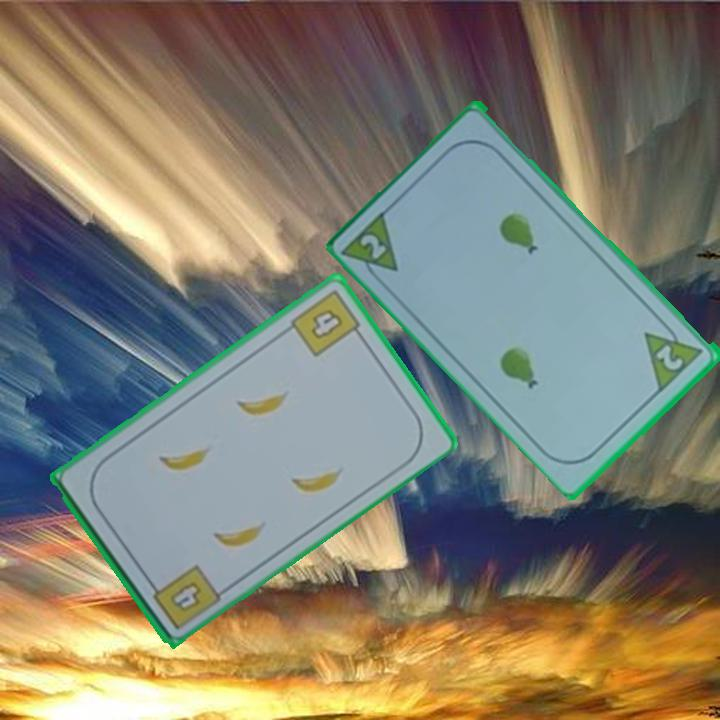2p: (340, 205, 403, 289), (653, 341, 687, 374)
4b: (286, 285, 367, 360), (144, 560, 221, 633)
